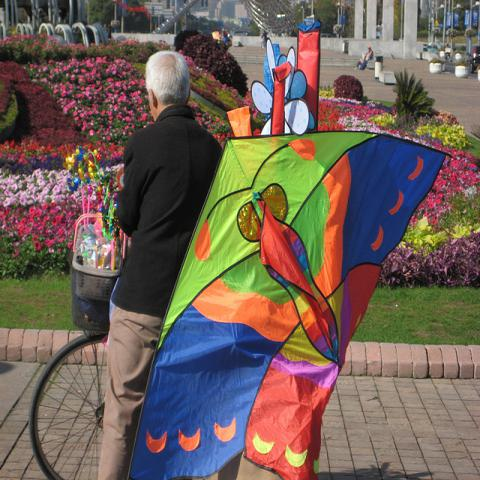car: (466, 45, 479, 74), (424, 43, 440, 57)
